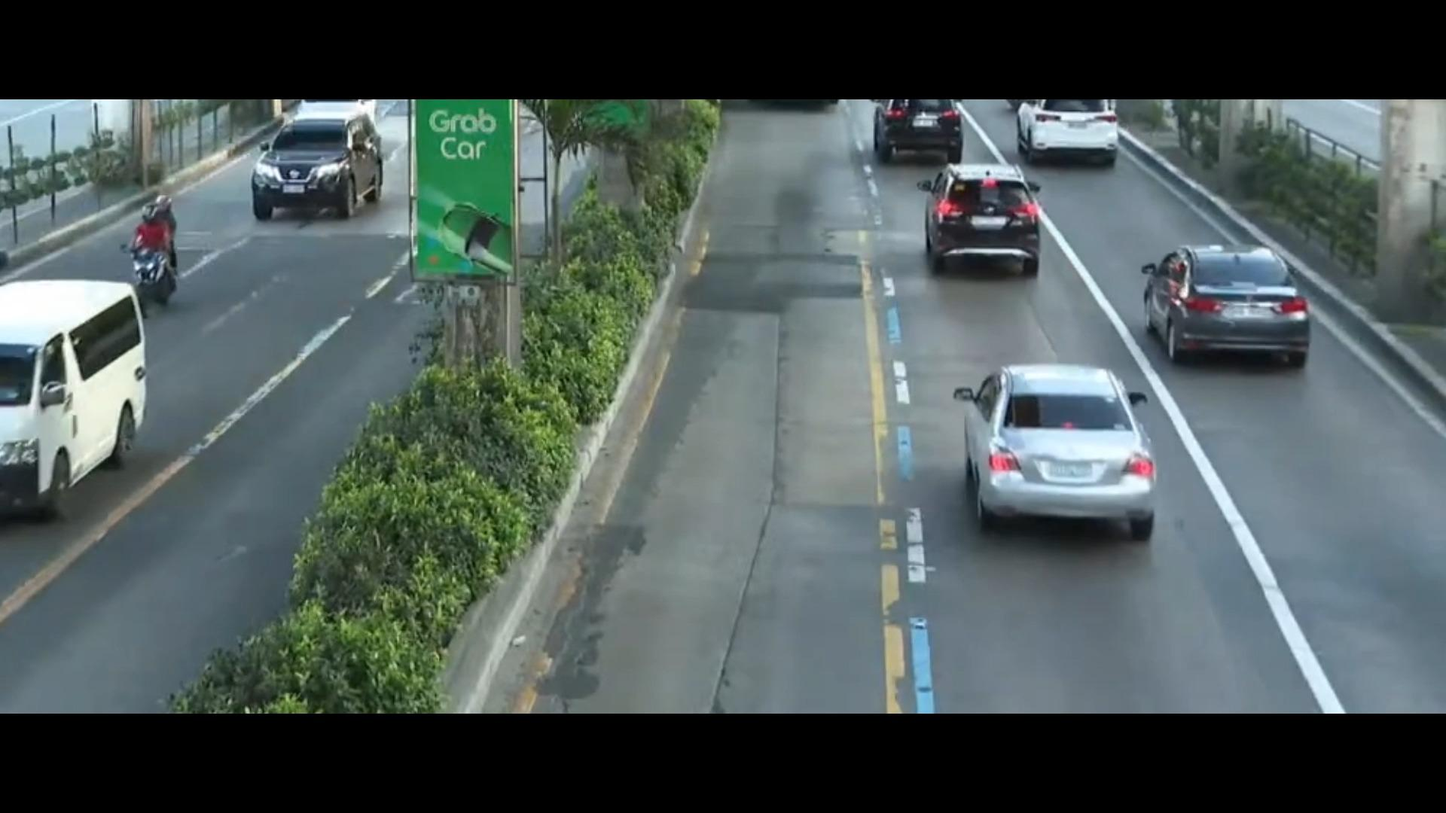Motorcycle: (125, 184, 196, 306)
SUV: (905, 156, 1055, 306), (242, 103, 410, 236), (864, 103, 977, 174), (1005, 105, 1132, 162)
Sedan: (949, 357, 1183, 581), (1132, 214, 1323, 388)
Van: (0, 277, 161, 519)
